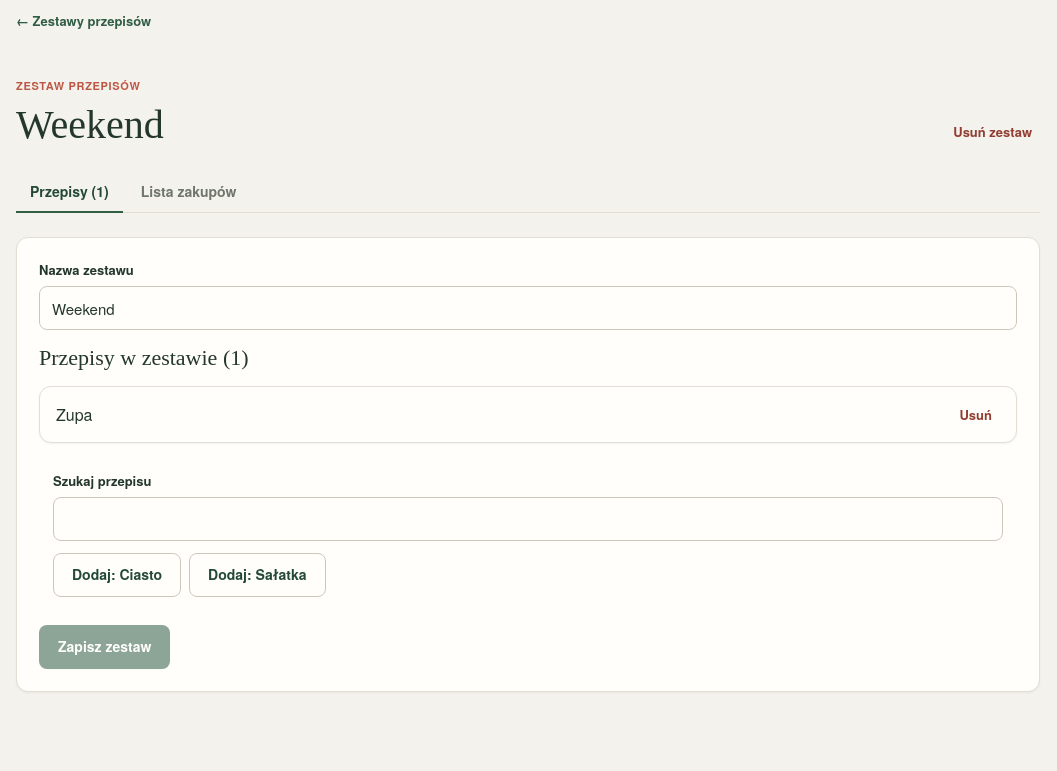
recipe set view › adds and removes recipes and saves them only on an explicit save
Click the button "Dodaj: Ciasto" at point(117, 575), box [53, 553, 181, 597]
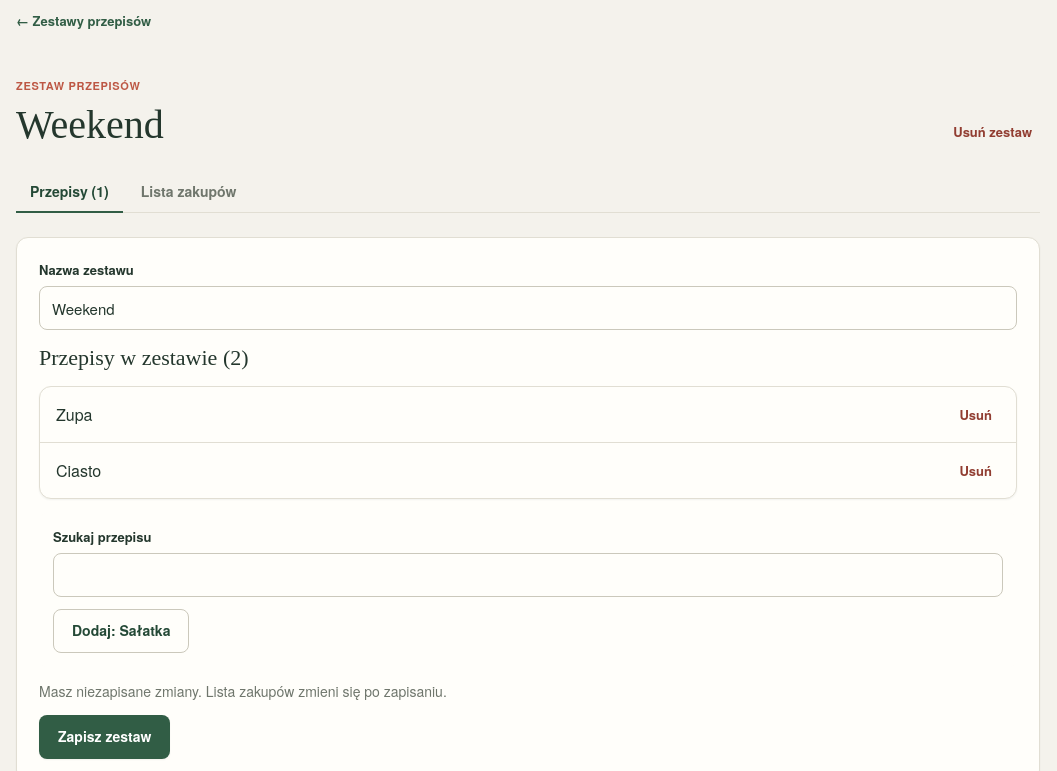
Click the button named "Usuń z zestawu: Zupa" at point(976, 414), box [952, 399, 1000, 430]
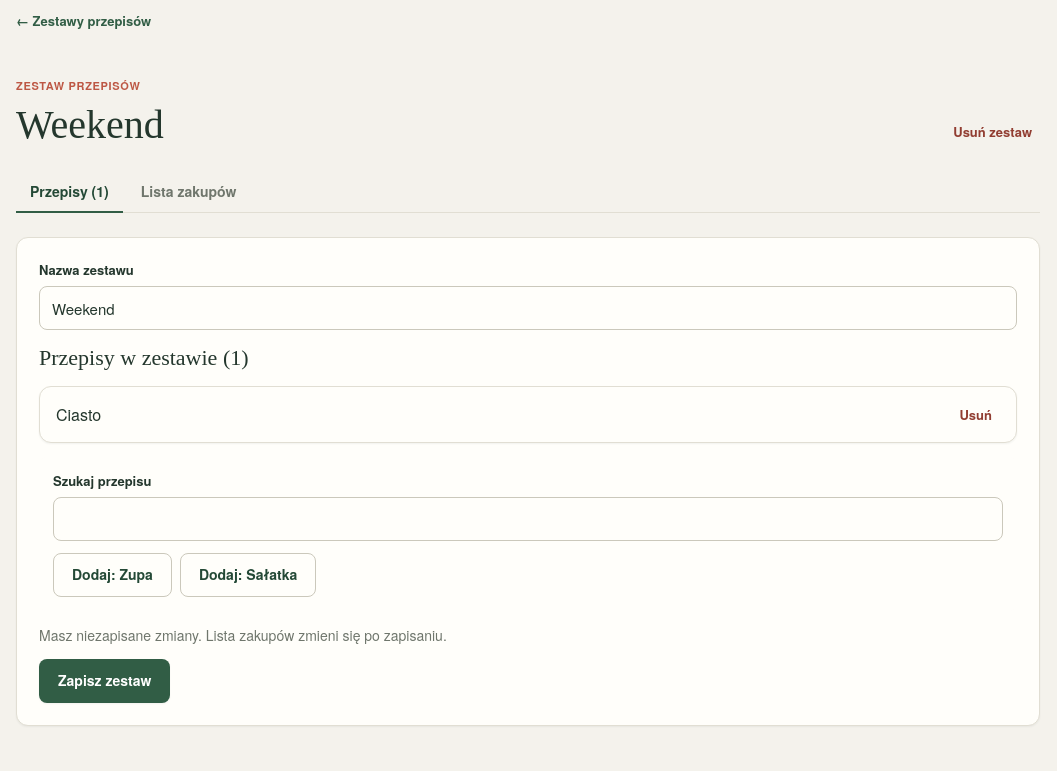
Expected: the button "Dodaj: Ciasto" is not shown
Expected: the text "Masz niezapisane zmiany. Lista zakupów zmieni się po zapisaniu." is shown, [39, 625, 447, 645]
Click the button "Zapisz zestaw" at point(105, 681), box [39, 659, 170, 703]
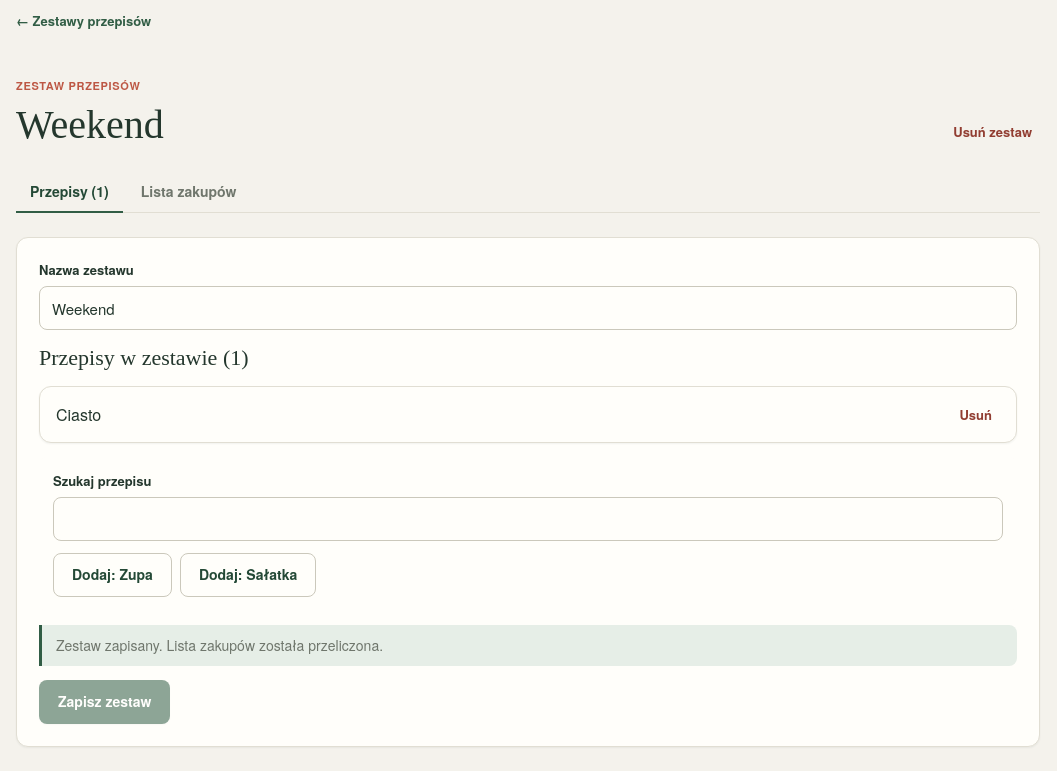
Expected: the text "Zestaw zapisany. Lista zakupów została przeliczona." is shown, [39, 625, 1017, 666]
Expected: the button "Zapisz zestaw" is disabled, [39, 680, 170, 724]
